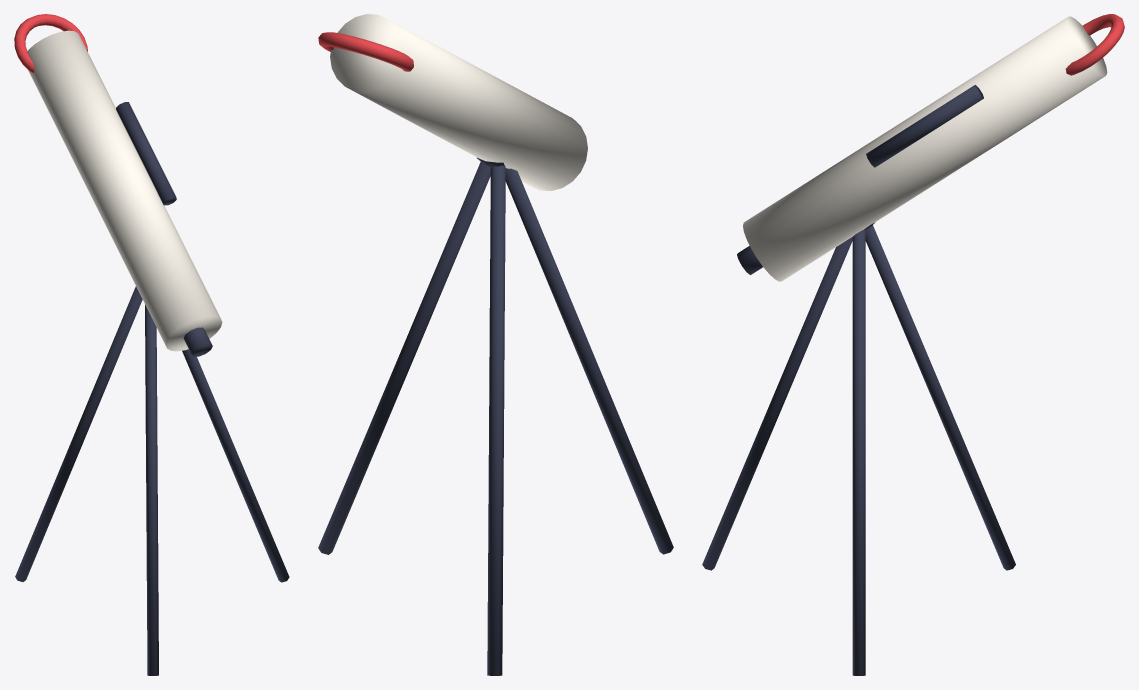
File: telescope.glb
The picture shows the model from 3 angles, left to right: view 1: azimuth 30°, elevation 25°; view 2: azimuth 150°, elevation 25°; view 3: azimuth 270°, elevation 25°; orthographic projection. The views are drawn at different scales.
Parts seen in each view (by area): view 1: telescope; view 2: telescope; view 3: telescope.
Boxes of the visible parts, x1,y1,x2,y2 form: telescope: [14, 14, 289, 675]; telescope: [318, 14, 673, 675]; telescope: [702, 14, 1124, 675].
Bounding box in the file's own units: 0.6138 × 1.47 × 0.9615.
